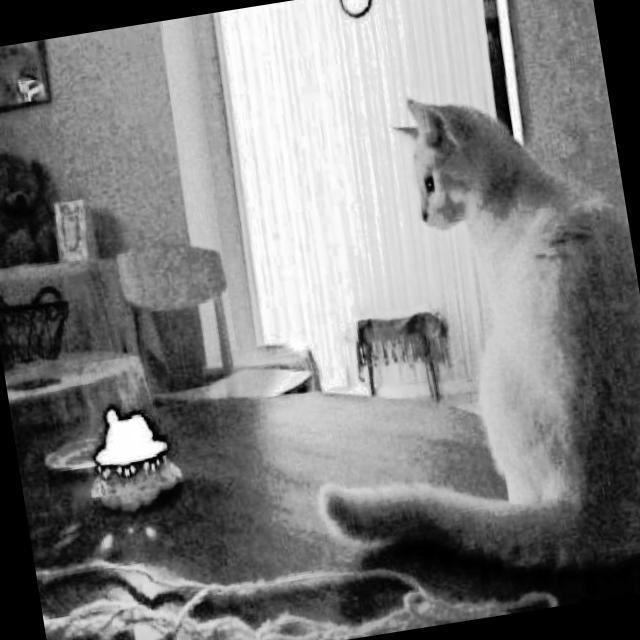Cat: (262, 61, 640, 619)
